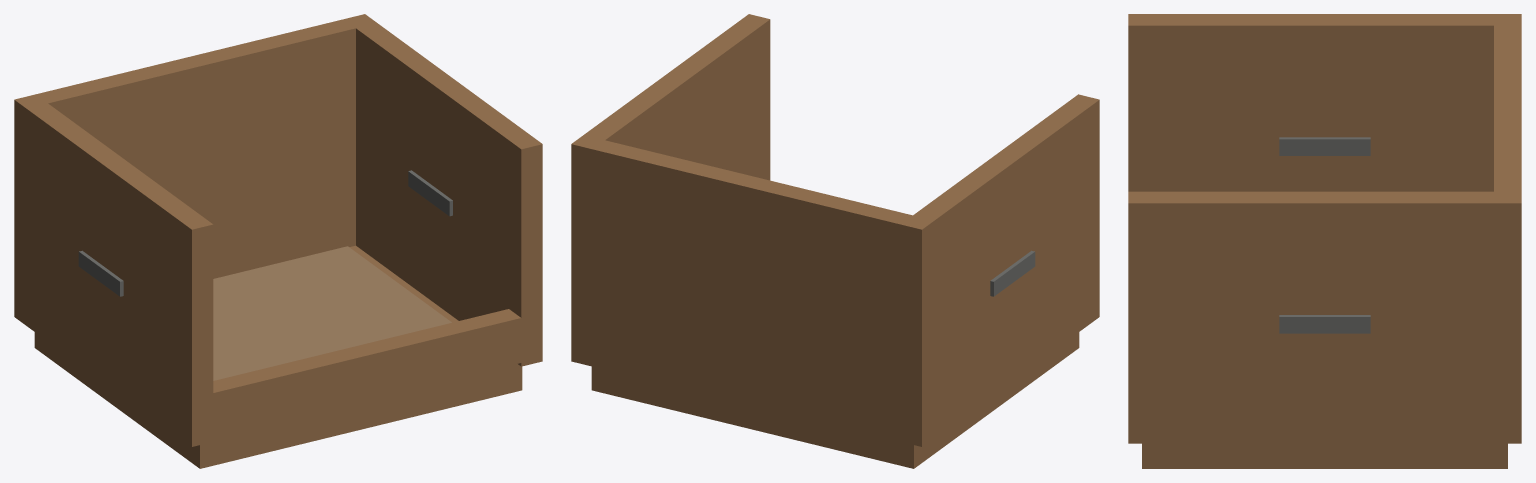
Rendered from vf_catch_basket.glb.
3 renders of one model, left to right at view 1: azimuth 30°, elevation 25°; view 2: azimuth 150°, elevation 25°; view 3: azimuth 270°, elevation 25°, orthographic. The views are drawn at different scales.
Visible parts, largest first — view 1: Static_Oak, Static_Hide, Static_Iron; view 2: Static_Oak, Static_Iron; view 3: Static_Oak, Static_Iron.
Part boxes in pixels (x1,y1,x2,y2): Static_Oak: (14,14,542,468); Static_Hide: (213,246,451,380); Static_Iron: (78,170,452,296); Static_Oak: (571,14,1099,468); Static_Iron: (990,250,1035,296); Static_Oak: (1128,14,1521,468); Static_Iron: (1279,137,1370,333).
Bounding box in the file's own units: 1 × 0.66 × 0.86.
